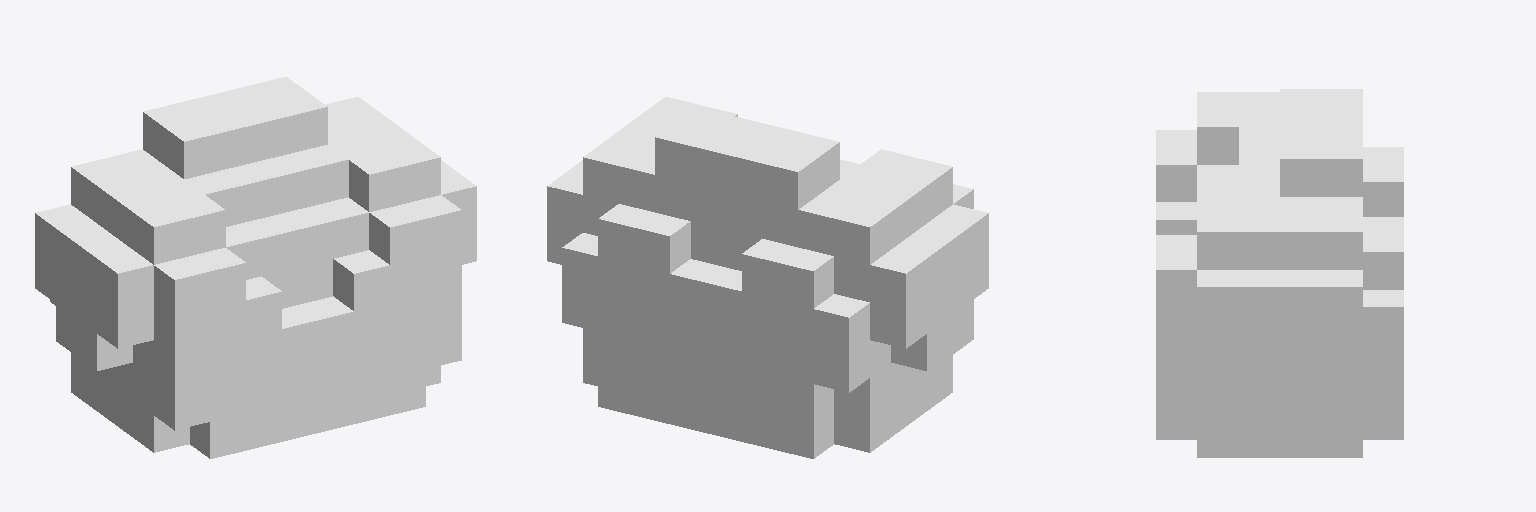
Rendered from gladiator-4.obj.
3 views of the same model, side by side, from view 1: azimuth 30°, elevation 25°; view 2: azimuth 150°, elevation 25°; view 3: azimuth 270°, elevation 25° (orthographic).
Visible parts, largest first — view 1: object 1; view 2: object 1; view 3: object 1.
Part boxes in pixels (x1,y1,x2,y2): object 1: (35,77,476,458); object 1: (547,97,988,458); object 1: (1156,89,1403,457).
Size of the model in its own units: 1 by 0.7 by 0.6.